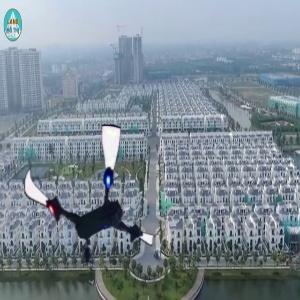drone: (15, 123, 167, 275)
